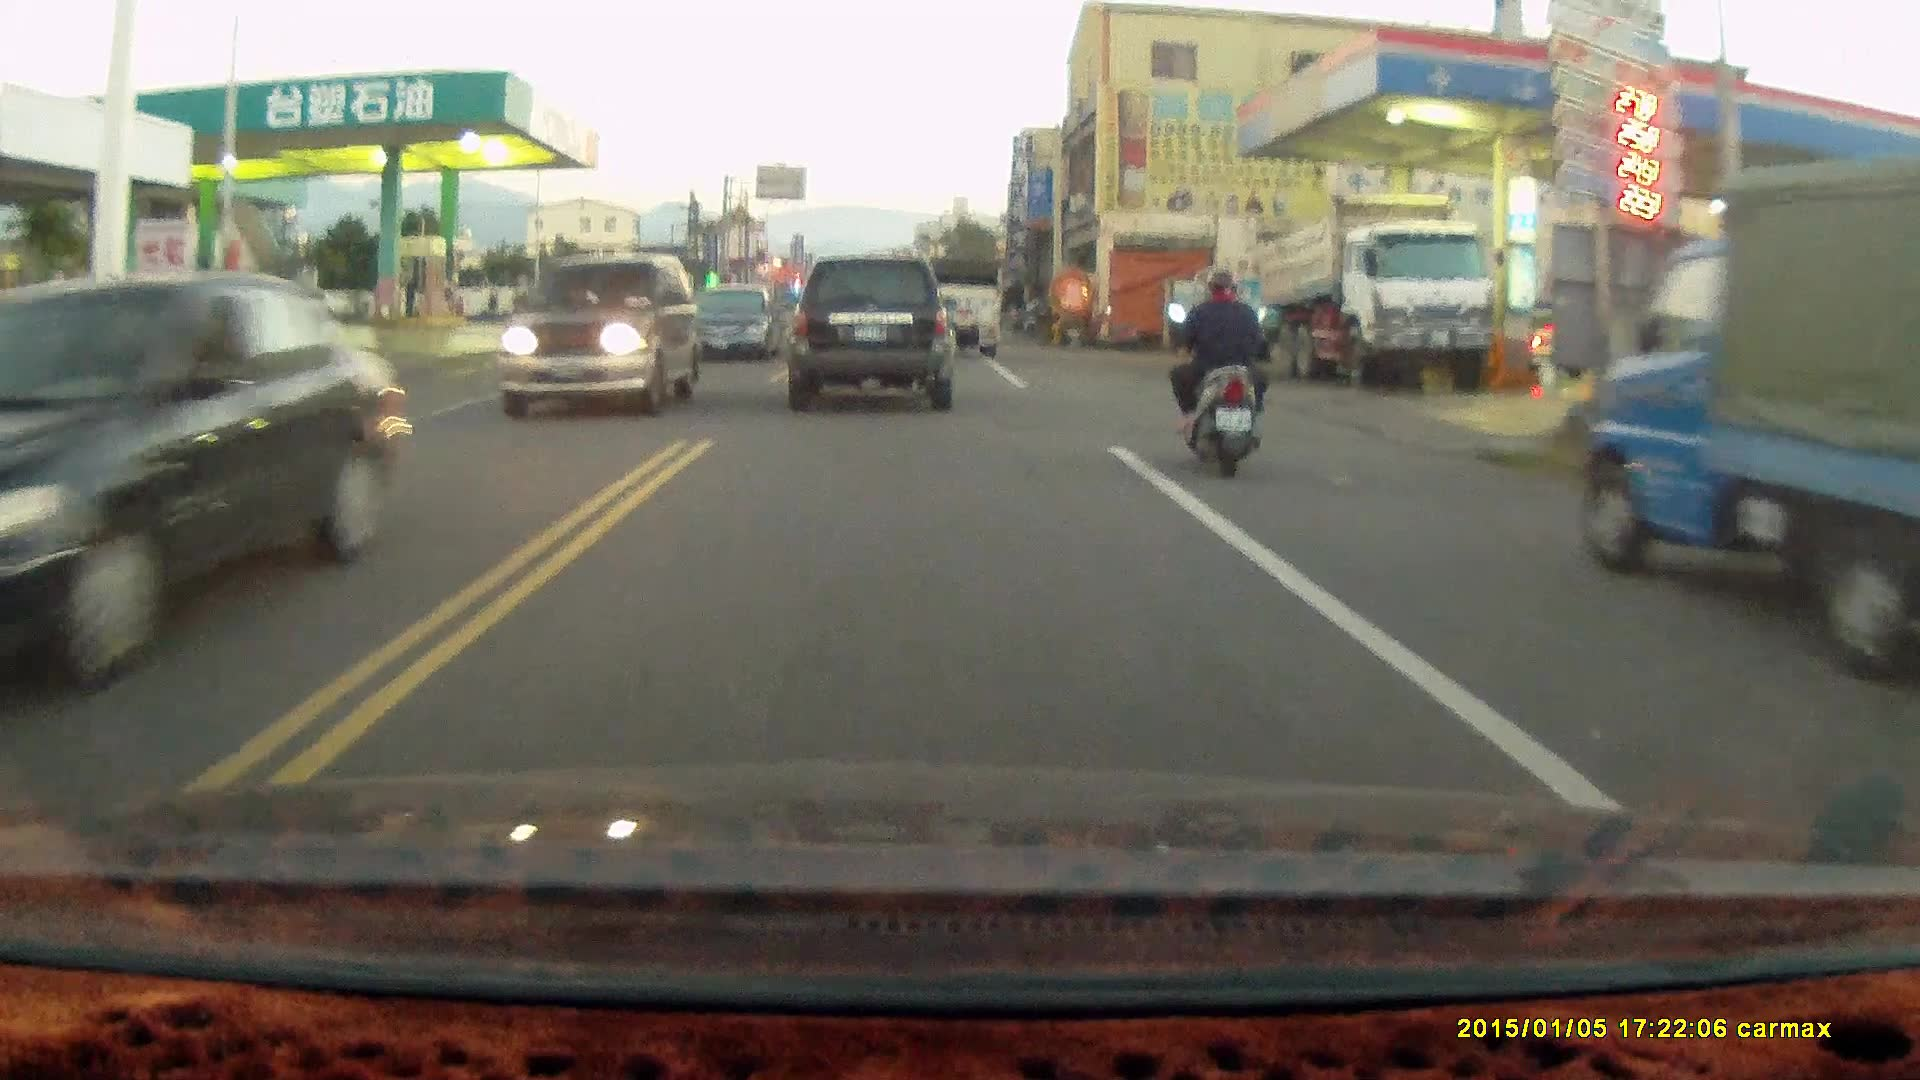rider: (1163, 269, 1270, 483)
vehicle: (1576, 152, 1920, 686), (1, 267, 402, 711), (1245, 190, 1495, 391), (499, 248, 695, 418), (790, 256, 954, 412), (912, 258, 1004, 361), (689, 284, 785, 364)
